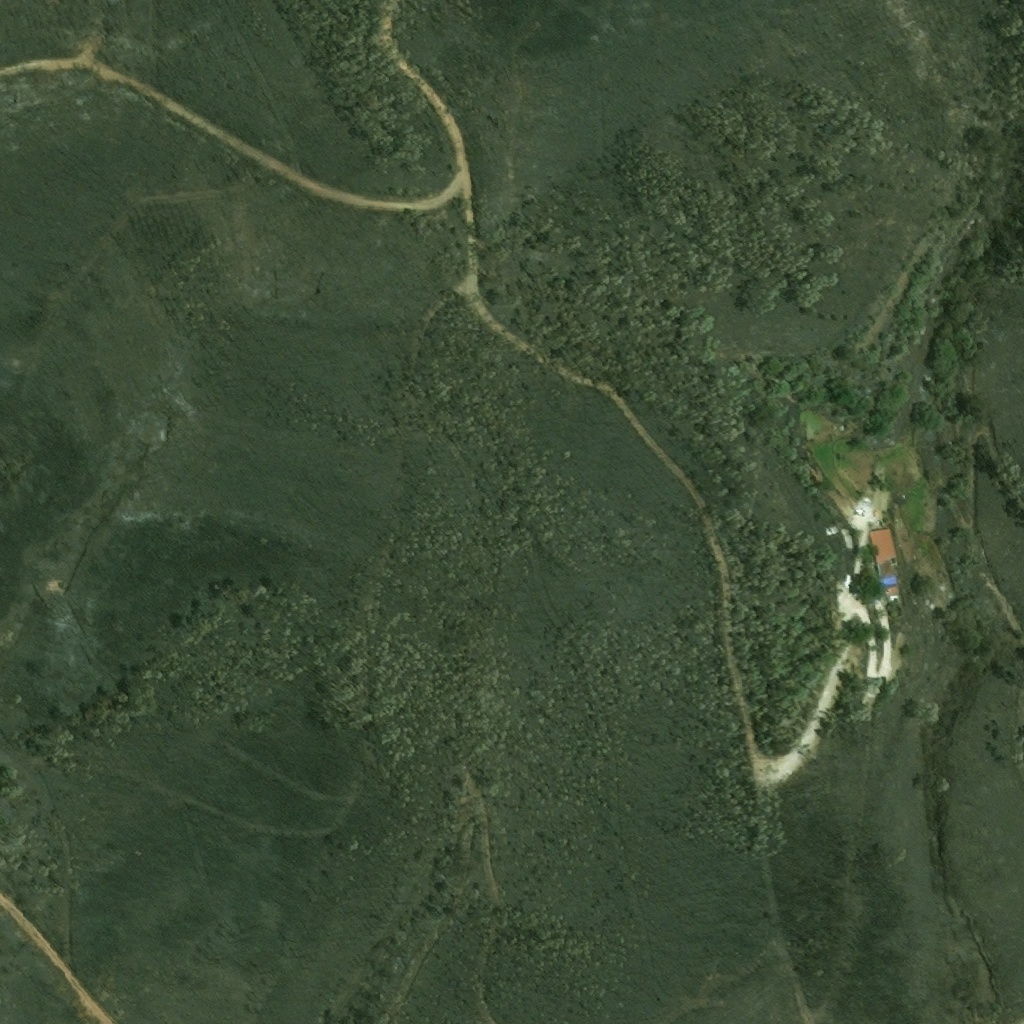0 no-damage: (875, 535, 896, 557), (883, 584, 899, 602)
1 minor-damage: (876, 557, 896, 579)
3 destroyed: (853, 570, 870, 609)
